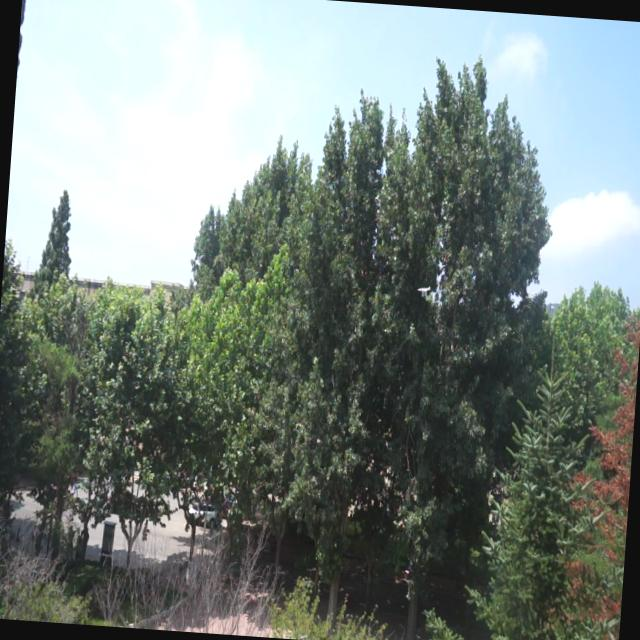drone: (415, 281, 431, 303)
